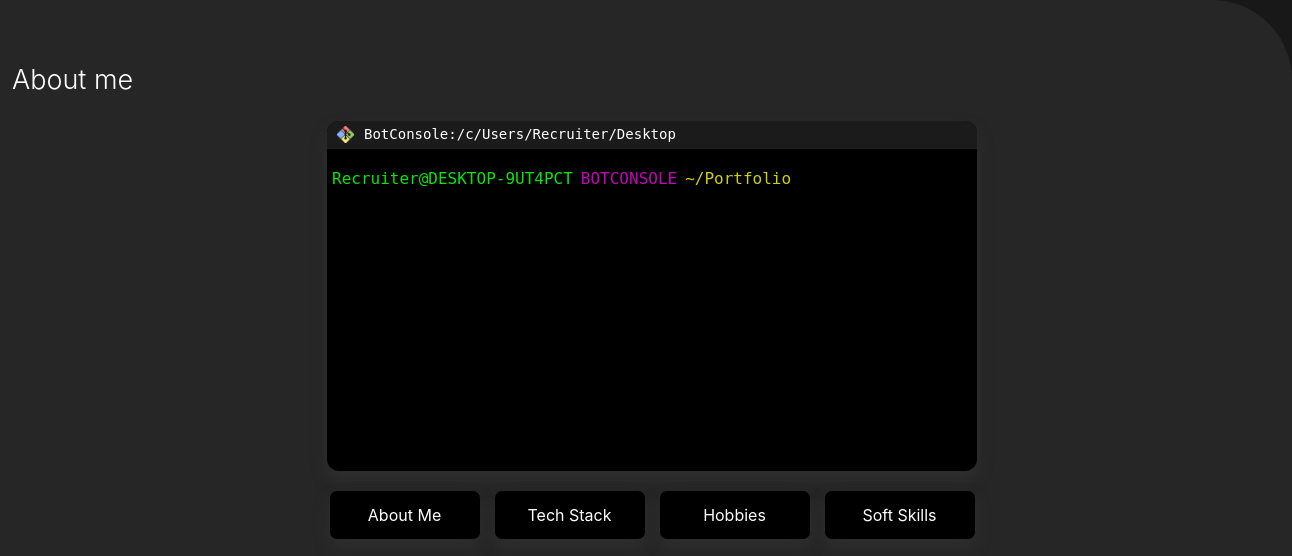
Test: ConsoleBot integration › disables buttons after click
Click the button "Hobbies": (734, 514) top-left (660, 490), bottom-right (810, 538)
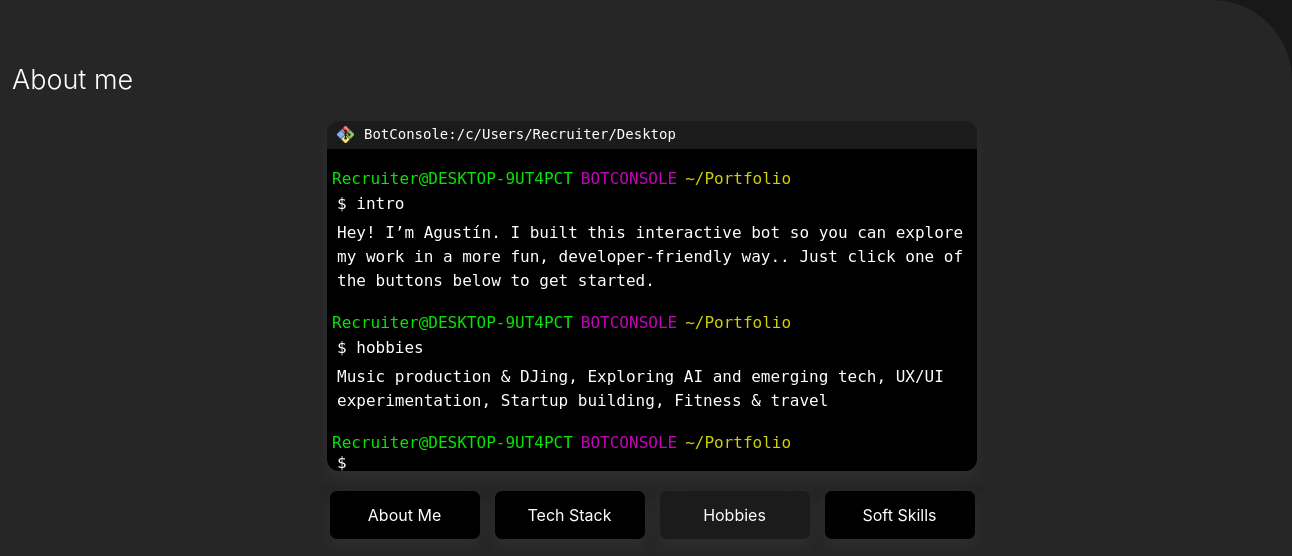
Check: the button "Hobbies" is disabled, box top-left (660, 490), bottom-right (810, 538)
